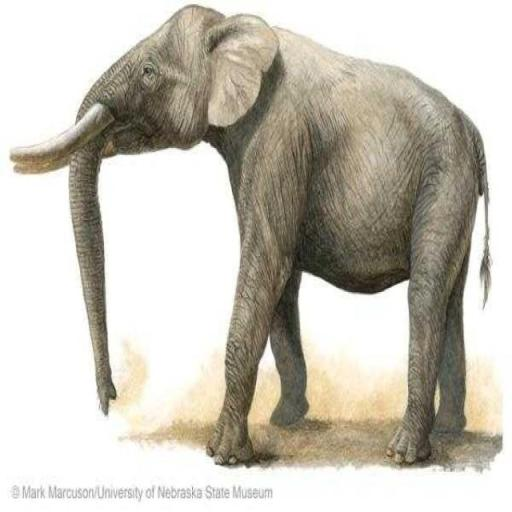Elephant: (8, 2, 492, 468)
